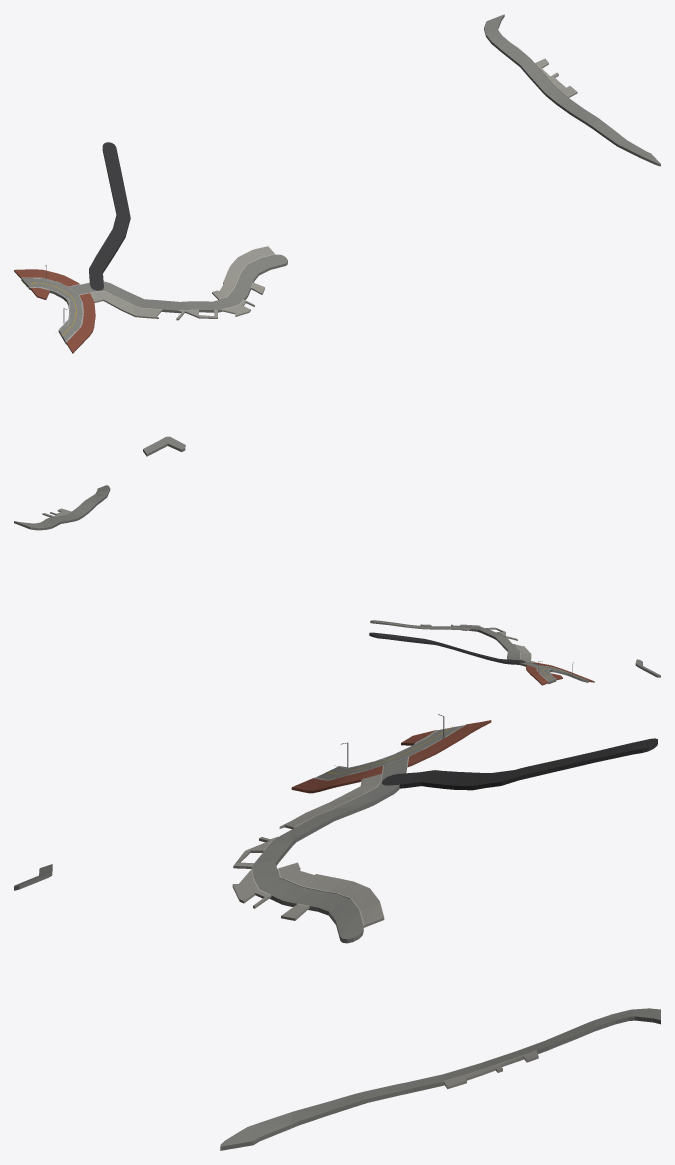
The picture shows the model from 3 angles, top to bottom: view 1: azimuth 30°, elevation 25°; view 2: azimuth 150°, elevation 25°; view 3: azimuth 270°, elevation 25°; orthographic projection. The views are drawn at different scales.
Size of the model in its own units: 296 by 87.38 by 170.
